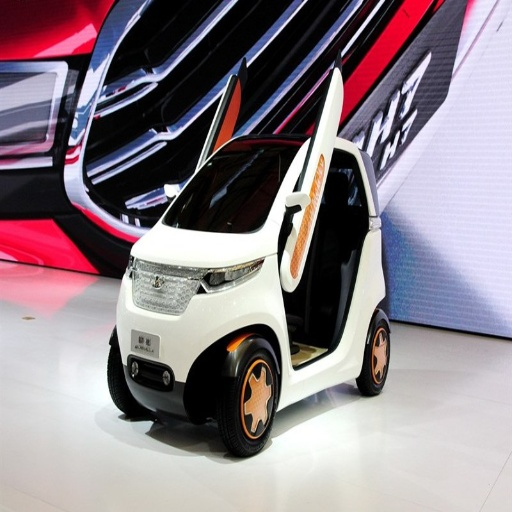front_bumper: (116, 286, 246, 417), (116, 76, 240, 142)
front_glass: (163, 149, 287, 231)
front_left_door: (290, 223, 332, 366)
front_right_light: (127, 256, 195, 308)
